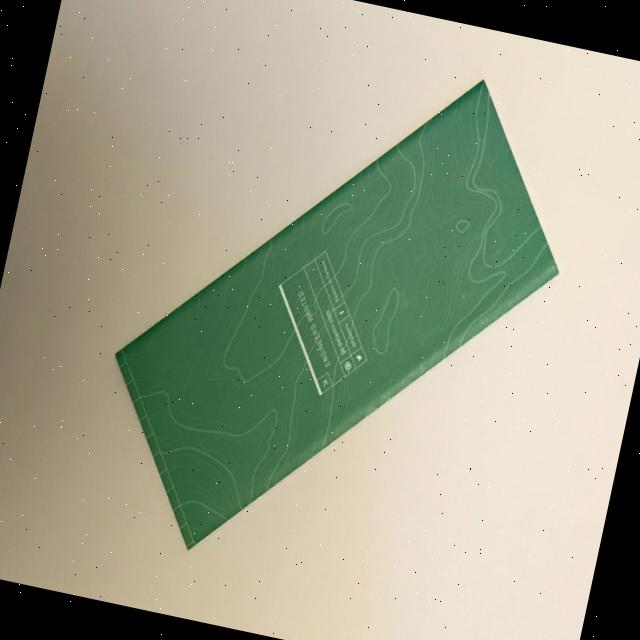paper: (77, 14, 595, 613)
